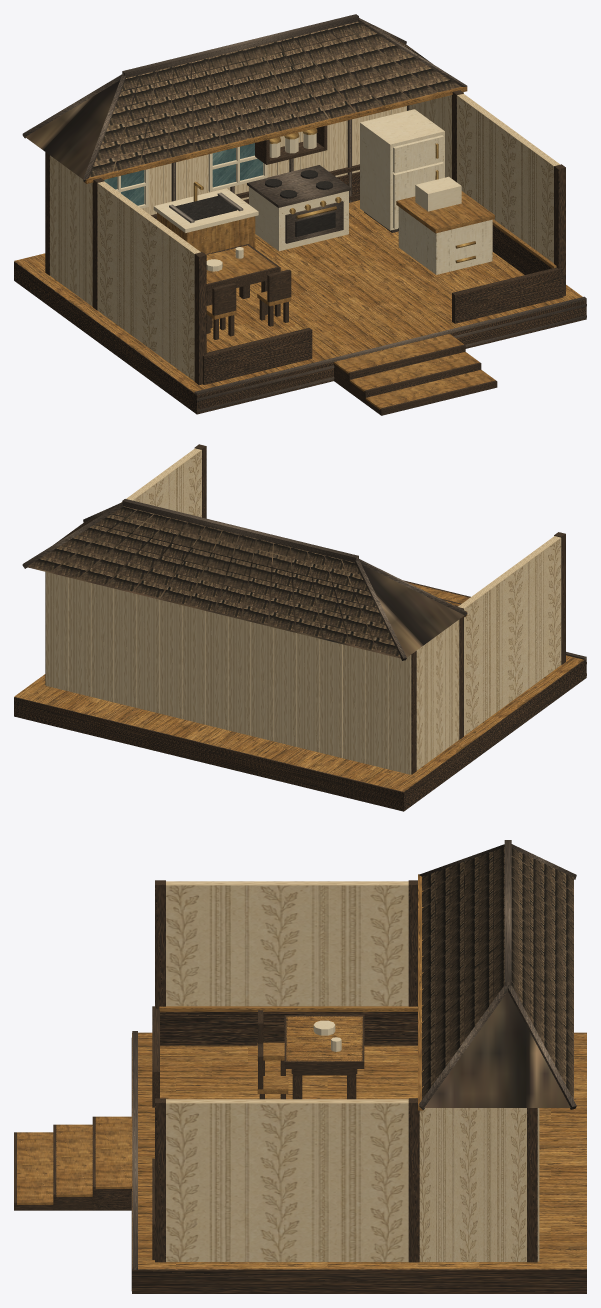
The model's file is west-display-home.glb.
3 renders of one model, top to bottom at view 1: azimuth 30°, elevation 25°; view 2: azimuth 150°, elevation 25°; view 3: azimuth 270°, elevation 25°, orthographic. The views are drawn at different scales.
Visible parts, largest first — view 1: west-display-home; view 2: west-display-home; view 3: west-display-home.
Boxes of the visible parts, x1=… form: west-display-home: x1=14, y1=14, x2=586, y2=415; west-display-home: x1=14, y1=444, x2=586, y2=811; west-display-home: x1=14, y1=840, x2=586, y2=1293.
Bounding box in the file's own units: 12.8 × 6.67 × 13.1.
1 material, 1 textured.
